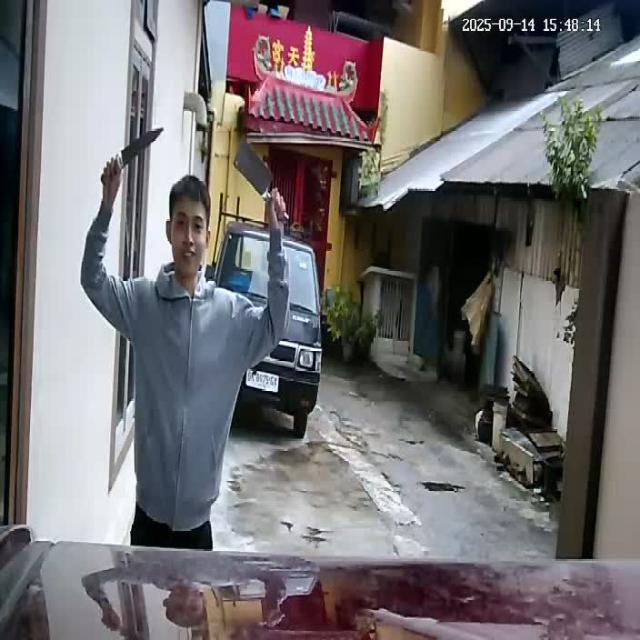senjata_tajam: (234, 136, 276, 202), (116, 124, 164, 172)
